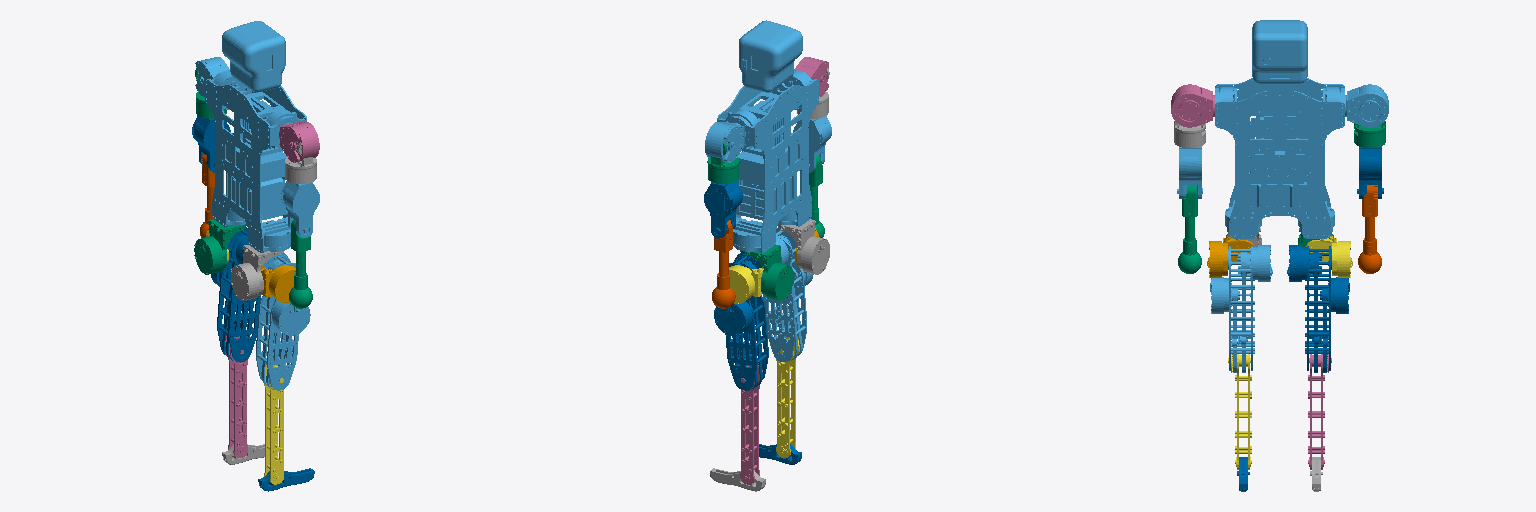
--- What the picture shows (computed from the rendered views, not written in the file) ---
3 views of the same robot in one strip: view 1: azimuth 30°, elevation 25°; view 2: azimuth 150°, elevation 25°; view 3: azimuth 270°, elevation 25° (orthographic).
Robot: achilles — 29 links, 28 joints (18 revolute, 10 fixed); root link base_link; default pose: all joints at 0.
Links seen in each view (by area): view 1: torso, right_hip_pitch, left_hip_pitch, right_knee_pitch, left_knee_pitch, left_hip_yaw, right_shoulder_yaw, right_hip_yaw, right_shoulder_pitch, right_elbow_pitch, right_hip_roll, left_shoulder_yaw (+4 smaller); view 2: torso, left_hip_pitch, right_hip_pitch, right_knee_pitch, left_knee_pitch, right_hip_yaw, left_shoulder_yaw, left_hip_yaw, left_shoulder_pitch, left_elbow_pitch, left_hip_roll, right_shoulder_yaw (+4 smaller); view 3: torso, left_hip_pitch, right_hip_pitch, left_shoulder_pitch, right_shoulder_pitch, left_elbow_pitch, right_elbow_pitch, right_shoulder_yaw, left_shoulder_yaw, left_knee_pitch, right_knee_pitch, left_hip_roll (+3 smaller).
Link boxes in pixels (x1,y1,x2,y2): torso: [205, 21, 306, 252]; right_hip_pitch: [256, 252, 310, 390]; left_hip_pitch: [211, 227, 260, 361]; right_knee_pitch: [261, 365, 283, 484]; left_knee_pitch: [225, 336, 248, 457]; left_hip_yaw: [194, 219, 246, 274]; right_shoulder_yaw: [281, 181, 319, 237]; right_hip_yaw: [231, 245, 284, 300]; right_shoulder_pitch: [279, 122, 319, 162]; right_elbow_pitch: [289, 220, 312, 308]; right_hip_roll: [261, 265, 295, 303]; left_shoulder_yaw: [192, 115, 230, 172]; torso: [717, 20, 818, 252]; left_hip_pitch: [714, 253, 768, 390]; right_hip_pitch: [763, 227, 813, 361]; right_knee_pitch: [776, 336, 799, 457]; left_knee_pitch: [740, 365, 762, 484]; right_hip_yaw: [777, 219, 829, 274]; left_shoulder_yaw: [704, 181, 742, 238]; left_hip_yaw: [740, 244, 793, 300]; left_shoulder_pitch: [705, 122, 744, 162]; left_elbow_pitch: [712, 220, 735, 308]; left_hip_roll: [729, 265, 763, 303]; right_shoulder_yaw: [793, 116, 831, 172]; torso: [1215, 20, 1344, 238]; left_hip_pitch: [1287, 245, 1349, 372]; right_hip_pitch: [1210, 245, 1272, 372]; left_shoulder_pitch: [1345, 84, 1388, 127]; right_shoulder_pitch: [1171, 84, 1214, 127]; left_elbow_pitch: [1358, 185, 1381, 273]; right_elbow_pitch: [1178, 185, 1201, 273]; right_shoulder_yaw: [1177, 146, 1202, 198]; left_shoulder_yaw: [1357, 146, 1383, 198]; left_knee_pitch: [1308, 354, 1331, 469]; right_knee_pitch: [1228, 354, 1251, 469]; left_hip_roll: [1306, 236, 1352, 277].
Size in the robot's own frame: 0.2141 by 0.536 by 1.22 metres.
Meshes: 17 distinct files referenced, 19 mesh visuals loaded (17 binary STL).

URDF robot description (achilles):
<?xml version="1.0" ?>
<robot name="achilles">
  <link name="base_link"/>
  <link name="torso">
    <inertial>
      <origin rpy="0 0 0" xyz="0 0 -0.107903"/>
      <mass value="8.3"/>
      <inertia ixx="0.172676" ixy="0.0" ixz="0.0" iyy="0.102985" iyz="0.0" izz="0.087971"/>
    </inertial>
    <collision name="torso_collision">
      <origin rpy="0 0 0" xyz="0 0 0"/>
      <geometry>
        <mesh filename="package://achilles_model/meshes/torso.STL"/>
      </geometry>
    </collision>
    <visual>
      <origin rpy="0 0 0" xyz="0 0 0"/>
      <geometry>
        <mesh filename="package://achilles_model/meshes/torso.STL"/>
      </geometry>
    </visual>
  </link>
  <joint name="base_to_torso_joint" type="fixed">
    <parent link="base_link"/>
    <child link="torso"/>
    <origin rpy="0 0 0" xyz="0 0 0"/>
  </joint>

  <!-- Left Leg -->
  <link name="left_hip_yaw">
    <inertial>
      <origin rpy="0 0 0" xyz="-0.066483 -0.001451 -0.062589"/>
      <mass value="0.80187"/>
      <inertia ixx="0.001907" ixy="0" ixz="0" iyy="0.002034" iyz="0" izz="0.001175"/>
    </inertial>
    <visual>
      <origin rpy="0 0 0" xyz="0 0 0"/>
      <geometry>
        <mesh filename="package://achilles_model/meshes/left_hip_yaw.STL"/>
      </geometry>
    </visual>
  </link>
  <joint name="left_hip_yaw_joint" type="revolute">
    <axis xyz="0 0 1"/>
    <limit effort="35.0" lower="-1" upper="1" velocity="20"/>
    <dynamics damping="0.01"/>
    <origin rpy="0 0 0" xyz="0 0.090 -0.334"/>
    <parent link="torso"/>
    <child link="left_hip_yaw"/>
  </joint>

  <link name="left_hip_roll">
    <inertial>
      <origin rpy="0 0 0" xyz="0.0465 0.055 0.000784"/>
      <mass value="0.843"/>
      <inertia ixx="0.000867" ixy="0" ixz="0" iyy="0.001086" iyz="0" izz="0.001082"/>
    </inertial>
    <visual>
      <origin rpy="0 0 0" xyz="0 0 0"/>
      <geometry>
        <mesh filename="package://achilles_model/meshes/left_hip_roll.STL"/>
      </geometry>
    </visual>
  </link>
  <joint name="left_hip_roll_joint" type="revolute">
    <axis xyz="1 0 0"/>
    <limit effort="70.0" lower="-1" upper="1" velocity="10"/>
    <dynamics damping="0.01"/>
    <origin rpy="0 0 0" xyz="-0.055 0 -0.083"/>
    <parent link="left_hip_yaw"/>
    <child link="left_hip_roll"/>
  </joint>

  <link name="left_hip_pitch">
    <inertial>
      <origin rpy="0 0 0" xyz="0.0139 -0.0336 -0.076"/>
      <mass value="2.42"/>
      <inertia ixx="0.0206" ixy="0" ixz="0" iyy="0.0173" iyz="0" izz="0.00594"/>
    </inertial>
    <visual>
      <origin rpy="0 0 0" xyz="0 0 0"/>
      <geometry>
        <mesh filename="package://achilles_model/meshes/left_hip_pitch.STL"/>
      </geometry>
    </visual>
  </link>
  <joint name="left_hip_pitch_joint" type="revolute">
    <axis xyz="0 1 0"/>
    <limit effort="35.0" lower="-1.5" upper="0.5" velocity="20"/>
    <dynamics damping="0.01"/>
    <origin rpy="0 0 0" xyz="0.055 0.0395 0"/>
    <parent link="left_hip_roll"/>
    <child link="left_hip_pitch"/>
  </joint>

  <link name="left_hip_center">
    <inertial>
      <origin rpy="0 0 0" xyz="0 0 0"/>
      <mass value="0.001"/>
      <inertia ixx="1e-06" ixy="0.0" ixz="0.0" iyy="1e-06" iyz="0.0" izz="1e-06"/>
    </inertial>
  </link>
  <joint name="left_hip_center_joint" type="fixed">
    <origin rpy="0 0 0" xyz="0 -0.0395 0"/>
    <parent link="left_hip_pitch"/>
    <child link="left_hip_center"/>
  </joint>

  <link name="left_knee_pitch">
    <inertial>
      <origin rpy="0 0 0" xyz="0.001 0.003 -0.131"/>
      <mass value="0.556"/>
      <inertia ixx="0.00666" ixy="0" ixz="0" iyy="0.006613" iyz="0" izz="0.000226"/>
    </inertial>
    <visual>
      <origin rpy="0 0 0" xyz="0 0 0"/>
      <geometry>
        <mesh filename="package://achilles_model/meshes/left_knee_pitch.STL"/>
      </geometry>
    </visual>
  </link>
  <joint name="left_knee_pitch_joint" type="revolute">
    <axis xyz="0 1 0"/>
    <origin rpy="0 0 0" xyz="0.0 -0.0395 -0.275"/>
    <parent link="left_hip_pitch"/>
    <child link="left_knee_pitch"/>
    <limit effort="70.0" lower="0" upper="2" velocity="10"/>
    <dynamics damping="0.01"/>
  </joint>

  <link name="left_ankle_pitch">
    <inertial>
      <origin rpy="0 0 0" xyz="0.0272 0.0 -0.0156"/>
      <mass value="0.180"/>
      <inertia ixx="0.000031" ixy="0" ixz="0" iyy="0.000286" iyz="0" izz="0.000272"/>
    </inertial>
    <visual>
      <origin rpy="0 0 0" xyz="0 0 0"/>
      <geometry>
        <mesh filename="package://achilles_model/meshes/ankle_pitch.STL"/>
      </geometry>
    </visual>
  </link>
  <joint name="left_ankle_pitch_joint" type="revolute">
    <axis xyz="0 1 0"/>
    <origin rpy="0 0 0" xyz="0 0 -0.275"/>
    <parent link="left_knee_pitch"/>
    <child link="left_ankle_pitch"/>
    <limit effort="35" lower="-1" upper="1" velocity="20"/>
    <dynamics damping="0.01"/>
  </joint>

  <link name="left_foot">
    <inertial>
      <origin rpy="0 0 0" xyz="0 0 0"/>
      <mass value="0.001"/>
      <inertia ixx="1e-06" ixy="0.0" ixz="0.0" iyy="1e-06" iyz="0.0" izz="1e-06"/>
    </inertial>
  </link>
  <joint name="left_foot_joint" type="fixed">
    <origin rpy="0 0 0" xyz="0 0 0"/>
    <parent link="left_ankle_pitch"/>
    <child link="left_foot"/>
  </joint>

    <!-- Left Arm-->
  <link name="left_shoulder_pitch">
    <inertial>
      <origin rpy="0 0 0" xyz="0 0.05 0"/>
      <mass value="0.796"/>
      <inertia ixx="0.000943" ixy="0" ixz="0" iyy="0.00056" iyz="0" izz="0.000675"/>
    </inertial>
    <visual>
      <origin rpy="0 0 0" xyz="0 0 0"/>
      <geometry>
        <mesh filename="package://achilles_model/meshes/left_shoulder_pitch.STL"/>
      </geometry>
    </visual>
  </link>
  <joint name="left_shoulder_pitch_joint" type="revolute">
    <axis xyz="0 1 0"/>
    <limit effort="35" lower="-1.58" upper="1.58" velocity="20"/>
    <dynamics damping="0.01"/>
    <origin rpy="0 0 0" xyz="0 0.159 0"/>
    <parent link="torso"/>
    <child link="left_shoulder_pitch"/>
  </joint>

  <link name="left_shoulder_roll">
    <inertial>
      <origin rpy="0 0 0" xyz="0 0 -0.0708"/>
      <mass value="0.484"/>
      <inertia ixx="0.000498" ixy="0" ixz="0" iyy="0.000458" iyz="0" izz="0.000384"/>
    </inertial>
    <visual>
      <origin rpy="0 0 0" xyz="0 0 0"/>
      <geometry>
        <mesh filename="package://achilles_model/meshes/left_shoulder_roll.STL"/>
      </geometry>
    </visual>
  </link>
  <joint name="left_shoulder_roll_joint" type="revolute">
    <axis xyz="1 0 0"/>
    <limit effort="12" lower="0" upper="3.141592653589793" velocity="20"/>
    <dynamics damping="0.01"/>
    <origin rpy="0 0 0" xyz="0 0.063 0"/>
    <parent link="left_shoulder_pitch"/>
    <child link="left_shoulder_roll"/>
  </joint>

  <link name="left_shoulder_center">
    <inertial>
      <origin rpy="0 0 0" xyz="0 0 0"/>
      <mass value="0.001"/>
      <inertia ixx="1e-06" ixy="0.0" ixz="0.0" iyy="1e-06" iyz="0.0" izz="1e-06"/>
    </inertial>
  </link>
  <joint name="left_shoulder_center_joint" type="fixed">
    <origin rpy="0 0 0" xyz="0 0 0"/>
    <parent link="left_shoulder_roll"/>
    <child link="left_shoulder_center"/>
  </joint>

  <link name="left_shoulder_yaw">
    <inertial>
      <origin rpy="0 0 0" xyz="0 0 -0.059"/>
      <mass value="0.5847"/>
      <inertia ixx="0.0007" ixy="0" ixz="0" iyy="0.000796" iyz="0" izz="0.000348"/>
    </inertial>
    <visual>
      <origin rpy="0 0 0" xyz="0 0 0"/>
      <geometry>
        <mesh filename="package://achilles_model/meshes/right_shoulder_yaw.STL"/>
      </geometry>
    </visual>
  </link>
  <joint name="left_shoulder_yaw_joint" type="revolute">
    <origin rpy="0 0 0" xyz="0 0 -0.0986"/>
    <parent link="left_shoulder_roll"/>
    <child link="left_shoulder_yaw"/>
    <axis xyz="0 0 1"/>
    <limit effort="12" lower="-1.58" upper="1.58" velocity="20"/>
  </joint>

  <link name="left_elbow_pitch">
    <inertial>
      <origin rpy="0 0 0" xyz="0 0 -0.1284"/>
      <mass value="0.297"/>
      <inertia ixx="0.0018" ixy="0" ixz="0" iyy="0.0018" iyz="0" izz="0.0001"/>
    </inertial>
    <visual>
      <origin rpy="0 0 0" xyz="0 0 0"/>
      <geometry>
        <mesh filename="package://achilles_model/meshes/left_elbow_pitch.STL"/>
      </geometry>
    </visual>
  </link>
  <joint name="left_elbow_pitch_joint" type="revolute">
    <axis xyz="0 1 0"/>
    <limit effort="24" lower="-1.58" upper="0" velocity="10"/>
    <dynamics damping="0.01"/>
    <origin rpy="0 0 0" xyz="0 0 -0.133"/>
    <parent link="left_shoulder_yaw"/>
    <child link="left_elbow_pitch"/>
  </joint>

  <link name="left_hand">
    <inertial>
      <origin rpy="0 0 0" xyz="0 0 0"/>
      <mass value="0.001"/>
      <inertia ixx="1e-06" ixy="0.0" ixz="0.0" iyy="1e-06" iyz="0.0" izz="1e-06"/>
    </inertial>
  </link>
  <!-- Hand radius is 0.03 m -->
  <joint name="left_hand_joint" type="fixed">
    <origin rpy="0 0 0" xyz="0.0 0.0 -0.19"/>
    <parent link="left_elbow_pitch"/>
    <child link="left_hand"/>
  </joint>



  <!-- Right Leg -->
  <link name="right_hip_yaw">
    <inertial>
      <origin rpy="0 0 0" xyz="-0.066483 0.001451 -0.062589"/>
      <mass value="0.80187"/>
      <inertia ixx="0.001907" ixy="0" ixz="0" iyy="0.002034" iyz="0" izz="0.001175"/>
    </inertial>
    <visual>
      <origin rpy="0 0 0" xyz="0 0 0"/>
      <geometry>
        <mesh filename="package://achilles_model/meshes/right_hip_yaw.STL"/>
      </geometry>
    </visual>
  </link>
  <joint name="right_hip_yaw_joint" type="revolute">
    <axis xyz="0 0 1"/>
    <limit effort="35.0" lower="-1" upper="1" velocity="20"/>
    <dynamics damping="0.01"/>
    <origin rpy="0 0 0" xyz="0 -0.090 -0.334"/>
    <parent link="torso"/>
    <child link="right_hip_yaw"/>
  </joint>

  <link name="right_hip_roll">
    <inertial>
      <origin rpy="0 0 0" xyz="0.0465 -0.055 0.000784"/>
      <mass value="0.843"/>
      <inertia ixx="0.000867" ixy="0" ixz="0" iyy="0.001086" iyz="0" izz="0.001082"/>
    </inertial>
    <visual>
      <origin rpy="0 0 0" xyz="0 0 0"/>
      <geometry>
        <mesh filename="package://achilles_model/meshes/right_hip_roll.STL"/>
      </geometry>
    </visual>
  </link>
  <joint name="right_hip_roll_joint" type="revolute">
    <axis xyz="1 0 0"/>
    <limit effort="70.0" lower="-1" upper="1" velocity="10"/>
    <dynamics damping="0.01"/>
    <origin rpy="0 0 0" xyz="-0.055 0 -0.083"/>
    <parent link="right_hip_yaw"/>
    <child link="right_hip_roll"/>
  </joint>

  <link name="right_hip_pitch">
    <inertial>
      <origin rpy="0 0 0" xyz="0.0139 0.0336 -0.076"/>
      <mass value="2.42"/>
      <inertia ixx="0.0206" ixy="0" ixz="0" iyy="0.0173" iyz="0" izz="0.00594"/>
    </inertial>
    <visual>
      <origin rpy="0 0 0" xyz="0 0 0"/>
      <geometry>
        <mesh filename="package://achilles_model/meshes/right_hip_pitch.STL"/>
      </geometry>
    </visual>
  </link>
  <joint name="right_hip_pitch_joint" type="revolute">
    <axis xyz="0 1 0"/>
    <limit effort="35.0" lower="-1.5" upper="1.5" velocity="20"/>
    <dynamics damping="0.01"/>
    <origin rpy="0 0 0" xyz="0.055 -0.0395 0"/>
    <parent link="right_hip_roll"/>
    <child link="right_hip_pitch"/>
  </joint>

  <link name="right_hip_center">
    <inertial>
      <origin rpy="0 0 0" xyz="0 0 0"/>
      <mass value="0.001"/>
      <inertia ixx="1e-06" ixy="0.0" ixz="0.0" iyy="1e-06" iyz="0.0" izz="1e-06"/>
    </inertial>
  </link>
  <joint name="right_hip_center_joint" type="fixed">
    <origin rpy="0 0 0" xyz="0 0.0395 0"/>
    <parent link="right_hip_pitch"/>
    <child link="right_hip_center"/>
  </joint>

  <link name="right_knee_pitch">
    <inertial>
      <origin rpy="0 0 0" xyz="0.001 -0.003 -0.131"/>
      <mass value="0.556"/>
      <inertia ixx="0.00666" ixy="0" ixz="0" iyy="0.006613" iyz="0" izz="0.000226"/>
    </inertial>
    <visual>
      <origin rpy="0 0 0" xyz="0 0 0"/>
      <geometry>
        <mesh filename="package://achilles_model/meshes/right_knee_pitch.STL"/>
      </geometry>
    </visual>
  </link>
  <joint name="right_knee_pitch_joint" type="revolute">
    <axis xyz="0 1 0"/>
    <origin rpy="0 0 0" xyz="0.0 0.0395 -0.275"/>
    <parent link="right_hip_pitch"/>
    <child link="right_knee_pitch"/>
    <limit effort="70.0" lower="0" upper="2" velocity="10"/>
    <dynamics damping="0.01"/>
  </joint>

  <link name="right_ankle_pitch">
    <inertial>
      <origin rpy="0 0 0" xyz="0.0272 -0.0 -0.0156"/>
      <mass value="0.180"/>
      <inertia ixx="0.000031" ixy="0" ixz="0" iyy="0.000286" iyz="0" izz="0.000272"/>
    </inertial>
    <visual>
      <origin rpy="0 0 0" xyz="0 0 0"/>
      <geometry>
        <mesh filename="package://achilles_model/meshes/ankle_pitch.STL"/>
      </geometry>
    </visual>
  </link>
  <joint name="right_ankle_pitch_joint" type="revolute">
    <axis xyz="0 1 0"/>
    <origin rpy="0 0 0" xyz="0 0 -0.275"/>
    <parent link="right_knee_pitch"/>
    <child link="right_ankle_pitch"/>
    <limit effort="35" lower="-1" upper="1" velocity="20"/>
    <dynamics damping="0.01"/>
  </joint>

  <link name="right_foot">
    <inertial>
      <origin rpy="0 0 0" xyz="0 0 0"/>
      <mass value="0.001"/>
      <inertia ixx="1e-06" ixy="0.0" ixz="0.0" iyy="1e-06" iyz="0.0" izz="1e-06"/>
    </inertial>
  </link>
  <joint name="right_foot_joint" type="fixed">
    <origin rpy="0 0 0" xyz="0 0 0"/>
    <parent link="right_ankle_pitch"/>
    <child link="right_foot"/>
  </joint>


    <!-- Right Arm-->
  <link name="right_shoulder_pitch">
    <inertial>
      <origin rpy="0 0 0" xyz="0 -0.05 0"/>
      <mass value="0.796"/>
      <inertia ixx="0.000943" ixy="0" ixz="0" iyy="0.00056" iyz="0" izz="0.000675"/>
    </inertial>
    <visual>
      <origin rpy="0 0 0" xyz="0 0 0"/>
      <geometry>
        <mesh filename="package://achilles_model/meshes/right_shoulder_pitch.STL"/>
      </geometry>
    </visual>
  </link>
  <joint name="right_shoulder_pitch_joint" type="revolute">
    <axis xyz="0 1 0"/>
    <limit effort="35" lower="-1.58" upper="1.58" velocity="20"/>
    <dynamics damping="0.01"/>
    <origin rpy="0 0 0" xyz="0 -0.159 0"/>
    <parent link="torso"/>
    <child link="right_shoulder_pitch"/>
  </joint>

  <link name="right_shoulder_roll">
    <inertial>
      <origin rpy="0 0 0" xyz="0 0 -0.0708"/>
      <mass value="0.484"/>
      <inertia ixx="0.000498" ixy="0" ixz="0" iyy="0.000458" iyz="0" izz="0.000384"/>
    </inertial>
    <visual>
      <origin rpy="0 0 0" xyz="0 0 0"/>
      <geometry>
        <mesh filename="package://achilles_model/meshes/right_shoulder_roll.STL"/>
      </geometry>
    </visual>
  </link>
  <joint name="right_shoulder_roll_joint" type="revolute">
    <axis xyz="1 0 0"/>
    <limit effort="35" lower="-3.14" upper="0" velocity="20"/>
    <dynamics damping="0.01"/>
    <origin rpy="0 0 0" xyz="0 -0.063 0"/>
    <parent link="right_shoulder_pitch"/>
    <child link="right_shoulder_roll"/>
  </joint>

  <link name="right_shoulder_center">
    <inertial>
      <origin rpy="0 0 0" xyz="0 0 0"/>
      <mass value="0.001"/>
      <inertia ixx="1e-06" ixy="0.0" ixz="0.0" iyy="1e-06" iyz="0.0" izz="1e-06"/>
    </inertial>
  </link>
  <joint name="right_shoulder_center_joint" type="fixed">
    <origin rpy="0 0 0" xyz="0 0 0"/>
    <parent link="right_shoulder_roll"/>
    <child link="right_shoulder_center"/>
  </joint>

  <link name="right_shoulder_yaw">
    <inertial>
      <origin rpy="0 0 0" xyz="0 0 -0.059"/>
      <mass value="0.5847"/>
      <inertia ixx="0.0007" ixy="0" ixz="0" iyy="0.000796" iyz="0" izz="0.000348"/>
    </inertial>
    <visual>
      <origin rpy="0 0 0" xyz="0 0 0"/>
      <geometry>
        <mesh filename="package://achilles_model/meshes/right_shoulder_yaw.STL"/>
      </geometry>
    </visual>
  </link>
  <joint name="right_shoulder_yaw_joint" type="revolute">
    <origin rpy="0 0 0" xyz="0 0 -0.0986"/>
    <parent link="right_shoulder_roll"/>
    <child link="right_shoulder_yaw"/>
    <axis xyz="0 0 1"/>
    <limit effort="12.0" lower="-1.58" upper="1.58" velocity="20"/>
  </joint>

  <link name="right_elbow_pitch">
    <inertial>
      <origin rpy="0 0 0" xyz="0 0 -0.1284"/>
      <mass value="0.297"/>
      <inertia ixx="0.0018" ixy="0" ixz="0" iyy="0.0018" iyz="0" izz="0.0001"/>
    </inertial>
    <visual>
      <origin rpy="0 0 0" xyz="0 0 0"/>
      <geometry>
        <mesh filename="package://achilles_model/meshes/right_elbow_pitch.STL"/>
      </geometry>
    </visual>
  </link>
  <joint name="right_elbow_pitch_joint" type="revolute">
    <axis xyz="0 1 0"/>
    <limit effort="24" lower="-1.58" upper="0" velocity="20"/>
    <dynamics damping="0.01"/>
    <origin rpy="0 0 0" xyz="0 0 -0.133"/>
    <parent link="right_shoulder_yaw"/>
    <child link="right_elbow_pitch"/>
  </joint>

  <link name="right_hand">
    <inertial>
      <origin rpy="0 0 0" xyz="0 0 0"/>
      <mass value="0.001"/>
      <inertia ixx="1e-06" ixy="0.0" ixz="0.0" iyy="1e-06" iyz="0.0" izz="1e-06"/>
    </inertial>
  </link>
  <!-- Hand radius is 0.03 m -->
  <joint name="right_hand_joint" type="fixed">
    <origin rpy="0 0 0" xyz="0.0 0.0 -0.19"/>
    <parent link="right_elbow_pitch"/>
    <child link="right_hand"/>
  </joint>

  <link name="static_com">
    <inertial>
      <origin rpy="0 0 0" xyz="0 0 0"/>
      <mass value="0.001"/>
      <inertia ixx="1e-06" ixy="0" ixz="0" iyy="1e-06" iyz="0" izz="1e-06"/>
    </inertial>
  </link>
  <joint name="static_com_joint" type="fixed">
    <origin rpy="0 0 0" xyz="0 0 0"/>
    <parent link="torso"/>
    <child link="static_com"/>
  </joint>

  <transmission name="left_hip_yaw_transmission">
    <type>transmission_interface/SimpleTransmission</type>
    <joint name="left_hip_yaw_joint">
      <hardwareInterface>hardware_interface/EffortJointInterface</hardwareInterface>
    </joint>
    <actuator name="left_hip_yaw_actuator">
      <mechanicalReduction>1</mechanicalReduction>
    </actuator>
  </transmission>
  <transmission name="left_hip_roll_transmission">
    <type>transmission_interface/SimpleTransmission</type>
    <joint name="left_hip_roll_joint">
      <hardwareInterface>hardware_interface/EffortJointInterface</hardwareInterface>
    </joint>
    <actuator name="left_hip_roll_actuator">
      <mechanicalReduction>1</mechanicalReduction>
    </actuator>
  </transmission>
  <transmission name="left_hip_pitch_transmission">
    <type>transmission_interface/SimpleTransmission</type>
    <joint name="left_hip_pitch_joint">
      <hardwareInterface>hardware_interface/EffortJointInterface</hardwareInterface>
    </joint>
    <actuator name="left_hip_pitch_actuator">
      <mechanicalReduction>1</mechanicalReduction>
    </actuator>
  </transmission>
  <transmission name="left_knee_pitch_transmission">
    <type>transmission_interface/SimpleTransmission</type>
    <joint name="left_knee_pitch_joint">
      <hardwareInterface>hardware_interface/EffortJointInterface</hardwareInterface>
    </joint>
    <actuator name="left_knee_pitch_actuator">
      <mechanicalReduction>1</mechanicalReduction>
    </actuator>
  </transmission>
  <transmission name="left_ankle_pitch_transmission">
    <type>transmission_interface/SimpleTransmission</type>
    <joint name="left_ankle_pitch_joint">
      <hardwareInterface>hardware_interface/EffortJointInterface</hardwareInterface>
    </joint>
    <actuator name="left_ankle_pitch_actuator">
      <mechanicalReduction>1</mechanicalReduction>
    </actuator>
  </transmission>

  <transmission name="left_shoulder_pitch_transmission">
    <type>transmission_interface/SimpleTransmission</type>
    <joint name="left_shoulder_pitch_joint">
      <hardwareInterface>hardware_interface/EffortJointInterface</hardwareInterface>
    </joint>
    <actuator name="left_shoulder_pitch_actuator">
      <mechanicalReduction>1</mechanicalReduction>
    </actuator>
  </transmission>
  <transmission name="left_shoulder_roll_transmission">
    <type>transmission_interface/SimpleTransmission</type>
    <joint name="left_shoulder_roll_joint">
      <hardwareInterface>hardware_interface/EffortJointInterface</hardwareInterface>
    </joint>
    <actuator name="left_shoulder_roll_actuator">
      <mechanicalReduction>1</mechanicalReduction>
    </actuator>
  </transmission>
  <transmission name="left_shoulder_yaw_transmission">
    <type>transmission_interface/SimpleTransmission</type>
    <joint name="left_shoulder_yaw_joint">
      <hardwareInterface>hardware_interface/EffortJointInterface</hardwareInterface>
    </joint>
    <actuator name="left_shoulder_yaw_actuator">
      <mechanicalReduction>1</mechanicalReduction>
    </actuator>
  </transmission>
  <transmission name="left_elbow_pitch_transmission">
    <type>transmission_interface/SimpleTransmission</type>
    <joint name="left_elbow_pitch_joint">
      <hardwareInterface>hardware_interface/EffortJointInterface</hardwareInterface>
    </joint>
    <actuator name="left_elbow_pitch_actuator">
      <mechanicalReduction>1</mechanicalReduction>
    </actuator>
  </transmission>

  <transmission name="right_hip_yaw_transmission">
    <type>transmission_interface/SimpleTransmission</type>
    <joint name="right_hip_yaw_joint">
      <hardwareInterface>hardware_interface/EffortJointInterface</hardwareInterface>
    </joint>
    <actuator name="right_hip_yaw_actuator">
      <mechanicalReduction>1</mechanicalReduction>
    </actuator>
  </transmission>
  <transmission name="right_hip_roll_transmission">
    <type>transmission_interface/SimpleTransmission</type>
    <joint name="right_hip_roll_joint">
      <hardwareInterface>hardware_interface/EffortJointInterface</hardwareInterface>
    </joint>
    <actuator name="right_hip_roll_actuator">
      <mechanicalReduction>1</mechanicalReduction>
    </actuator>
  </transmission>
  <transmission name="right_hip_pitch_transmission">
    <type>transmission_interface/SimpleTransmission</type>
    <joint name="right_hip_pitch_joint">
      <hardwareInterface>hardware_interface/EffortJointInterface</hardwareInterface>
    </joint>
    <actuator name="right_hip_pitch_actuator">
      <mechanicalReduction>1</mechanicalReduction>
    </actuator>
  </transmission>
  <transmission name="right_knee_pitch_transmission">
    <type>transmission_interface/SimpleTransmission</type>
    <joint name="right_knee_pitch_joint">
      <hardwareInterface>hardware_interface/EffortJointInterface</hardwareInterface>
    </joint>
    <actuator name="right_knee_pitch_actuator">
      <mechanicalReduction>1</mechanicalReduction>
    </actuator>
  </transmission>
  <transmission name="right_ankle_pitch_transmission">
    <type>transmission_interface/SimpleTransmission</type>
    <joint name="right_ankle_pitch_joint">
      <hardwareInterface>hardware_interface/EffortJointInterface</hardwareInterface>
    </joint>
    <actuator name="right_ankle_pitch_actuator">
      <mechanicalReduction>1</mechanicalReduction>
    </actuator>
  </transmission>

  <transmission name="right_shoulder_pitch_transmission">
    <type>transmission_interface/SimpleTransmission</type>
    <joint name="right_shoulder_pitch_joint">
      <hardwareInterface>hardware_interface/EffortJointInterface</hardwareInterface>
    </joint>
    <actuator name="right_shoulder_pitch_actuator">
      <mechanicalReduction>1</mechanicalReduction>
    </actuator>
  </transmission>
  <transmission name="right_shoulder_roll_transmission">
    <type>transmission_interface/SimpleTransmission</type>
    <joint name="right_shoulder_roll_joint">
      <hardwareInterface>hardware_interface/EffortJointInterface</hardwareInterface>
    </joint>
    <actuator name="right_shoulder_roll_actuator">
      <mechanicalReduction>1</mechanicalReduction>
    </actuator>
  </transmission>
  <transmission name="right_shoulder_yaw_transmission">
    <type>transmission_interface/SimpleTransmission</type>
    <joint name="right_shoulder_yaw_joint">
      <hardwareInterface>hardware_interface/EffortJointInterface</hardwareInterface>
    </joint>
    <actuator name="right_shoulder_yaw_actuator">
      <mechanicalReduction>1</mechanicalReduction>
    </actuator>
  </transmission>
  <transmission name="right_elbow_pitch_transmission">
    <type>transmission_interface/SimpleTransmission</type>
    <joint name="right_elbow_pitch_joint">
      <hardwareInterface>hardware_interface/EffortJointInterface</hardwareInterface>
    </joint>
    <actuator name="right_elbow_pitch_actuator">
      <mechanicalReduction>1</mechanicalReduction>
    </actuator>
  </transmission>

</robot>
